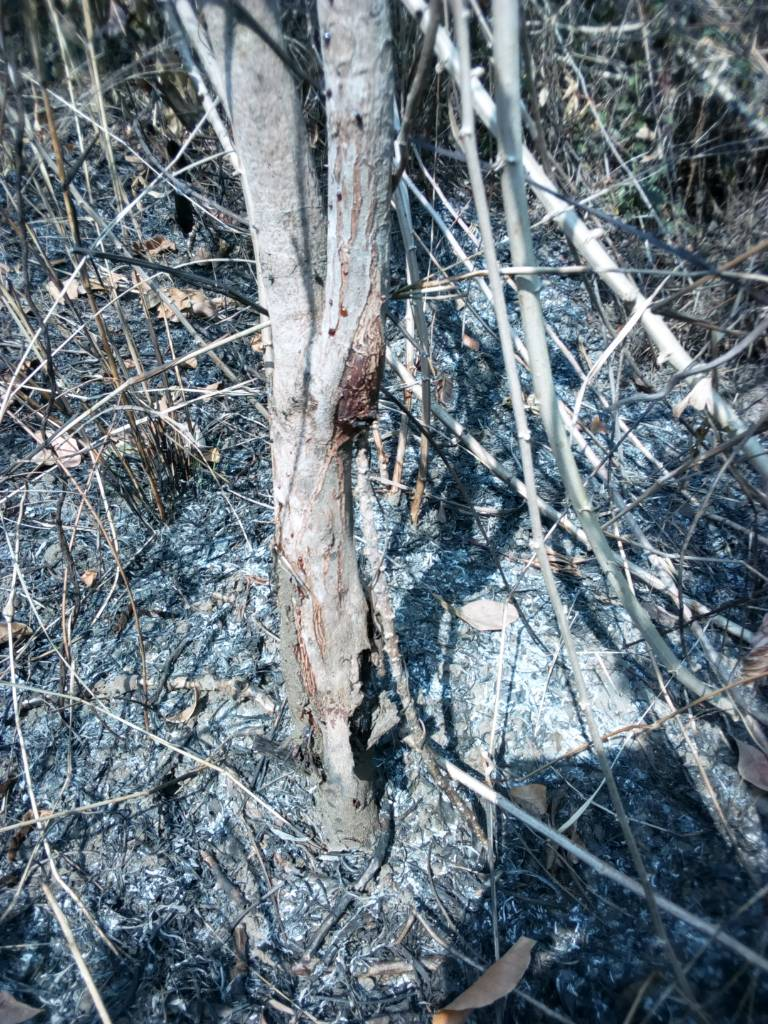Gommose: (330, 327, 379, 453)
